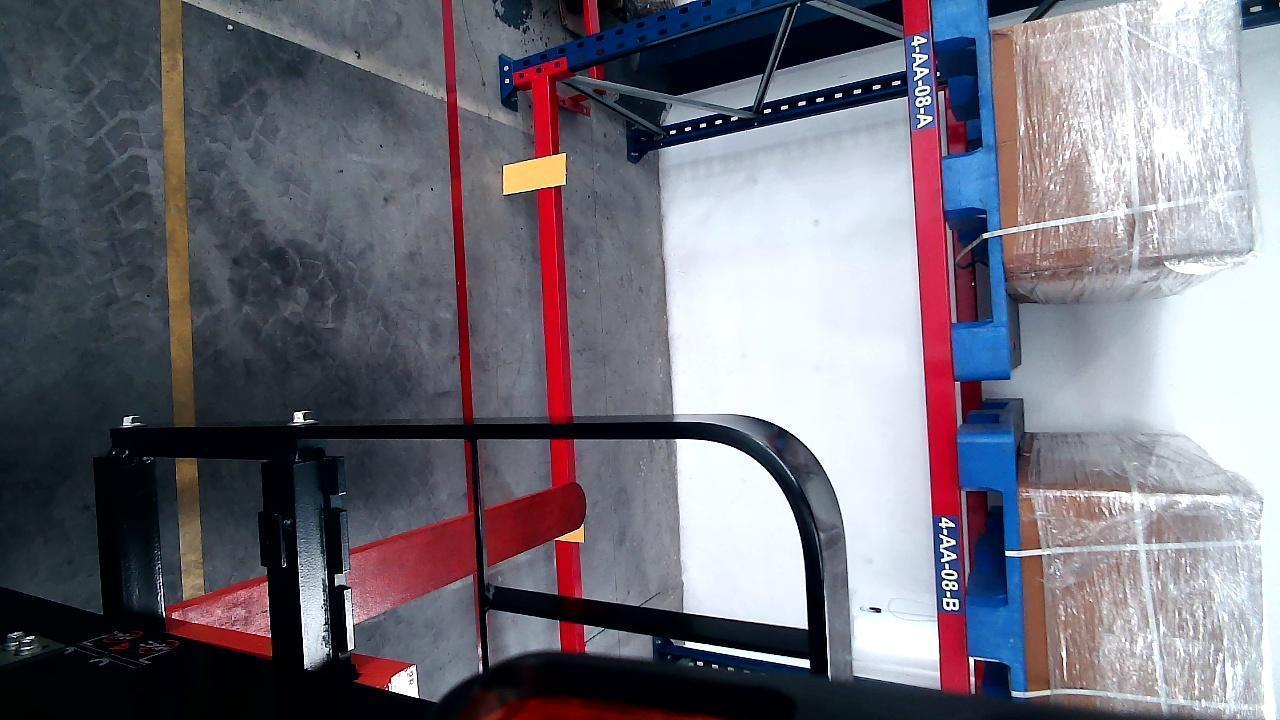red_line: (446, 0, 474, 423)
yellow_line: (163, 0, 194, 418)
